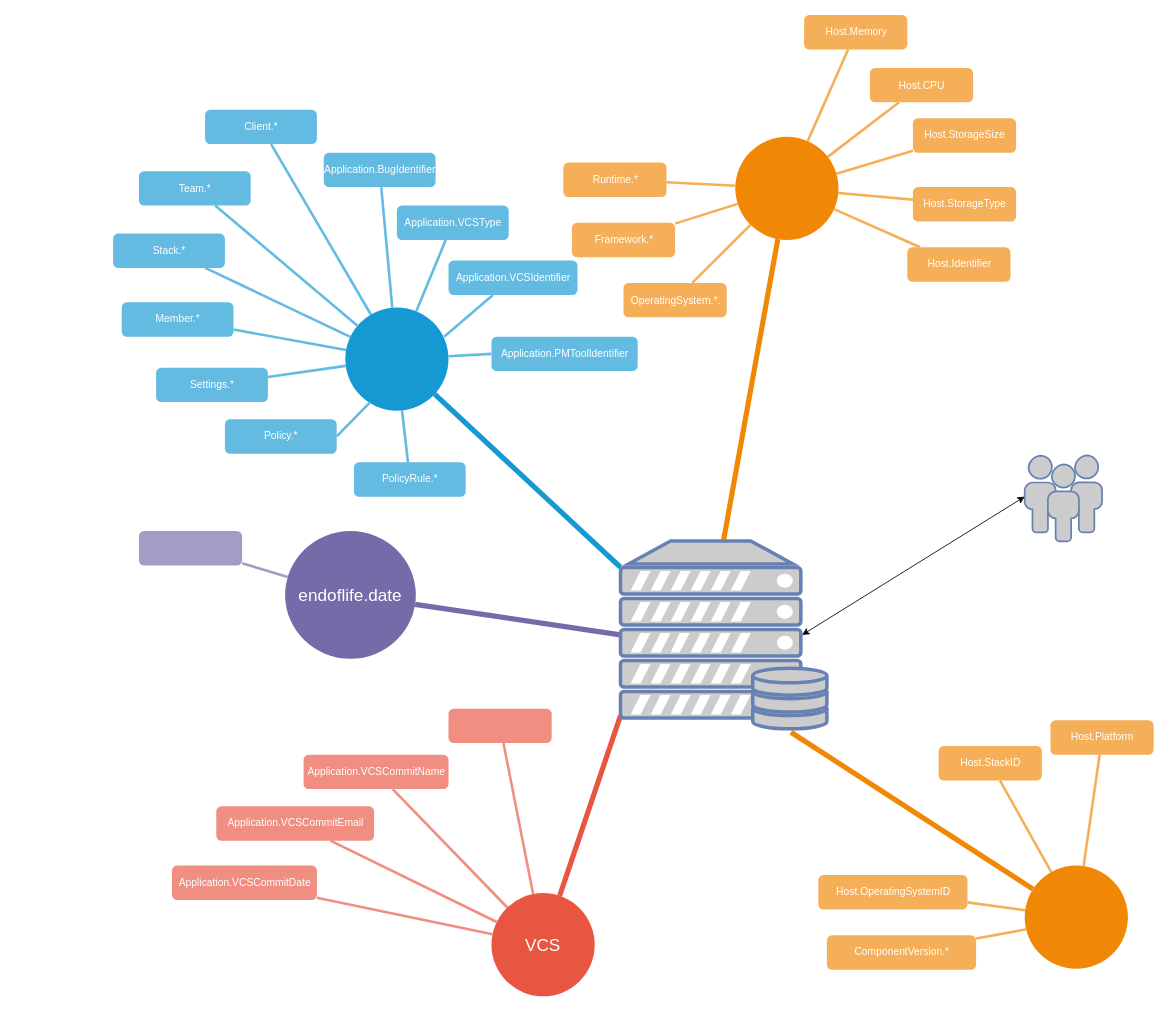
The diagram is 1168 pixels wide and 1011 high, and some of its shapes have lost their labels. Each missing label, with the centre of its shape:
Agent: the point at 786,188
Application.VCSTag: the point at 499,725
Component.*: the point at 190,548
Manual: the point at 396,358
Metaport: the point at 723,634
Server: the point at 1075,916
